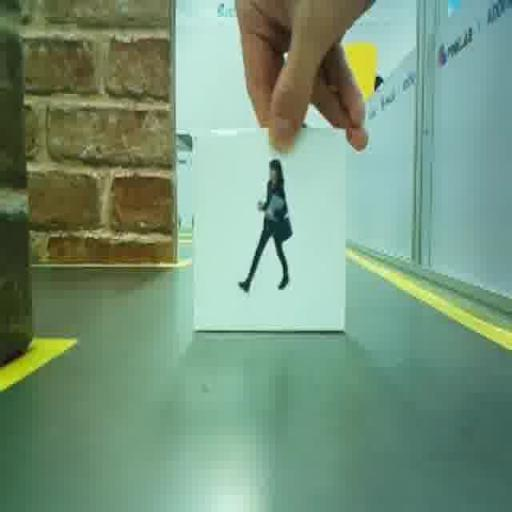human: (238, 159, 292, 292)
